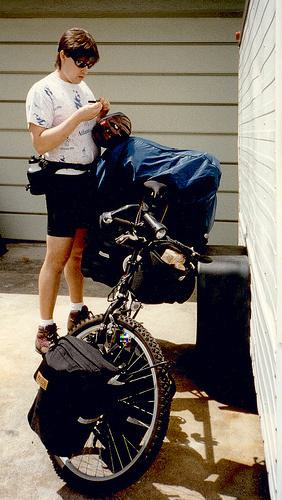car: (32, 181, 216, 496)
person: (25, 27, 110, 356)
person/foot: (34, 333, 58, 354), (67, 316, 90, 333)
person/hand: (78, 102, 101, 122), (97, 96, 112, 118)
person/head: (56, 27, 98, 83)
